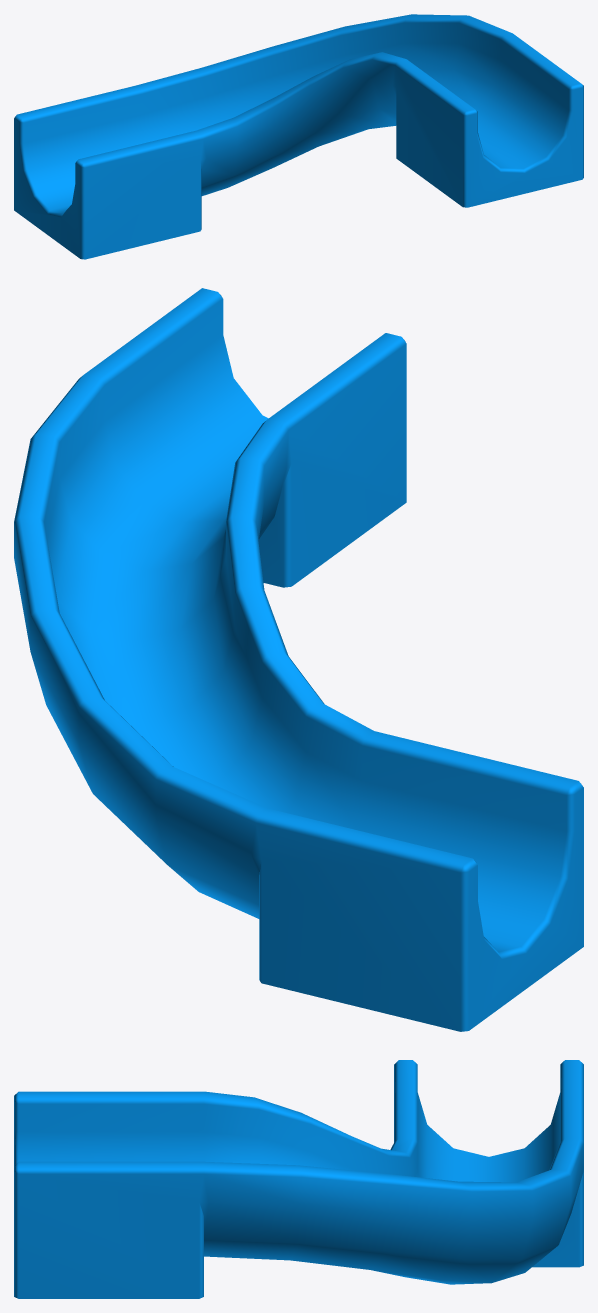
Rendered from Track Ramp Curve 3x3.fbx.
3 views of the same model, one above another, from view 1: azimuth 30°, elevation 25°; view 2: azimuth 150°, elevation 25°; view 3: azimuth 270°, elevation 25° (orthographic). The views are drawn at different scales.
Parts seen in each view (by area): view 1: Track Ramp Curve 3x3; view 2: Track Ramp Curve 3x3; view 3: Track Ramp Curve 3x3.
Part boxes in pixels (x1,y1,x2,y2): Track Ramp Curve 3x3: (14,14,583,259); Track Ramp Curve 3x3: (14,288,583,1031); Track Ramp Curve 3x3: (14,1060,583,1298).
Bounding box in the file's own units: 300 × 150 × 300.
